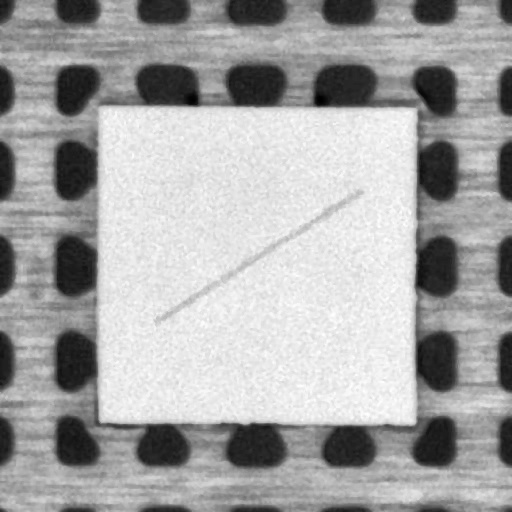DIE_CRACK: (155, 191, 358, 321)
